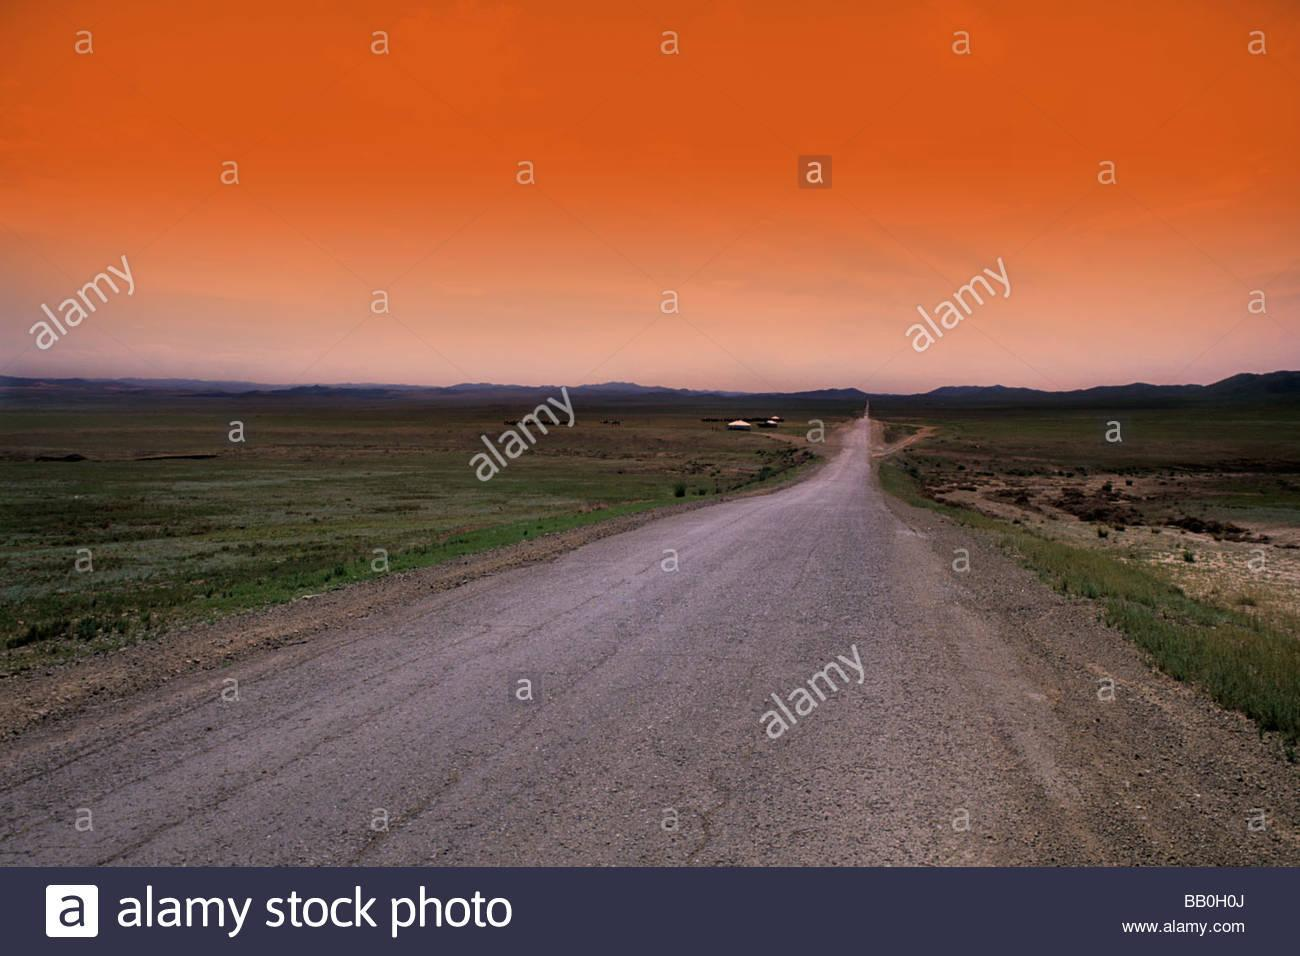language: (34, 877, 521, 949), (1115, 880, 1276, 954)
watersign: (464, 385, 585, 486), (28, 255, 142, 348), (757, 648, 871, 741), (905, 259, 1011, 350), (1233, 273, 1272, 328), (360, 22, 402, 72), (357, 535, 398, 583), (505, 668, 545, 714), (655, 25, 694, 68), (1232, 803, 1277, 840), (360, 284, 398, 325), (793, 153, 836, 190), (214, 154, 247, 199), (944, 29, 983, 67), (1233, 540, 1271, 579), (942, 803, 983, 838), (1090, 158, 1125, 198), (657, 540, 687, 586), (1089, 673, 1128, 708), (658, 284, 695, 318), (652, 800, 686, 835), (364, 804, 399, 838), (210, 675, 239, 715), (67, 803, 100, 837), (512, 152, 541, 188), (945, 539, 973, 574), (1094, 413, 1120, 450), (74, 542, 97, 577), (809, 415, 835, 447), (220, 410, 245, 441)
